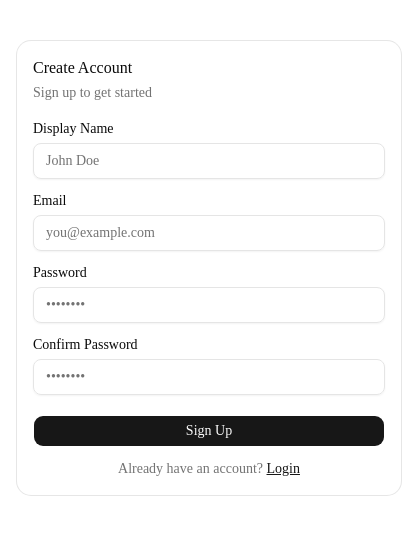
it: SignupPage › shows error when password is too short
Type "Test User" into the field labelled "Display Name".
click(209, 161); type("Test User")  # box [33,143,385,179]
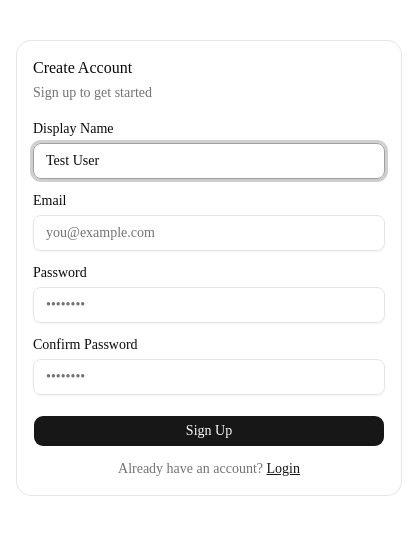
Type "test@test.com" into the field labelled "Email".
click(209, 233); type("test@test.com")  # box [33,215,385,251]
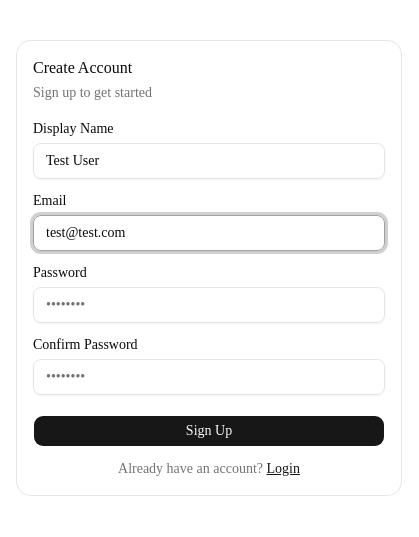
Type "12345" into the password field labelled "Password".
click(209, 305); type("12345")  # box [33,287,385,323]
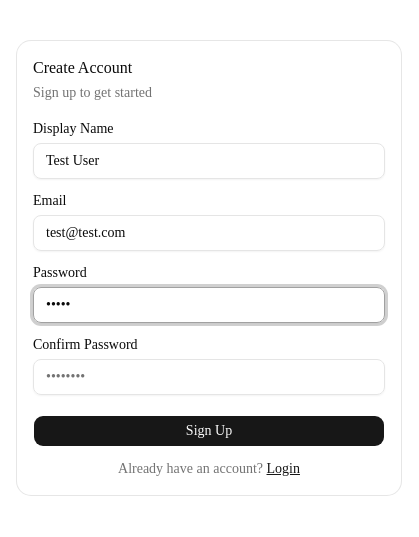
Type "12345" into the password field labelled "Confirm Password".
click(209, 377); type("12345")  # box [33,359,385,395]
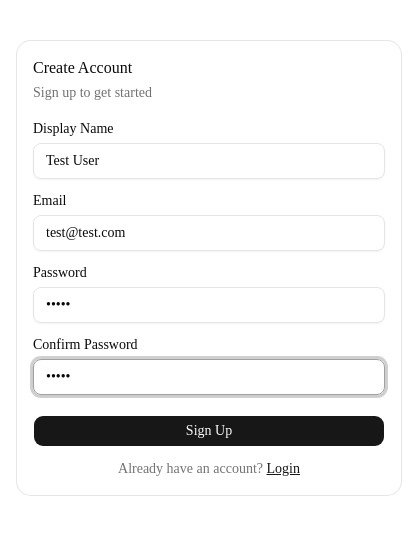
Click the button "Sign Up".
click(209, 431)  # box [33,415,385,447]
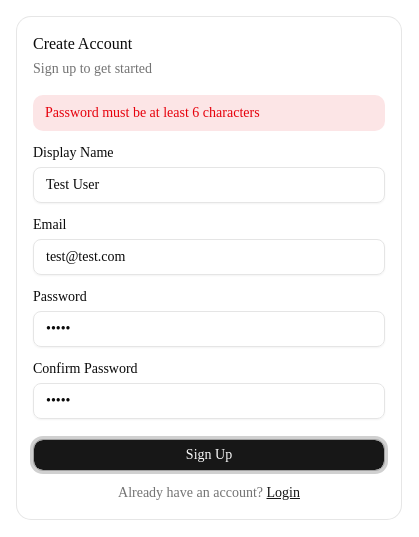
Result: the text "Password must be at least 6 characters" is shown at [33,95,385,131]
